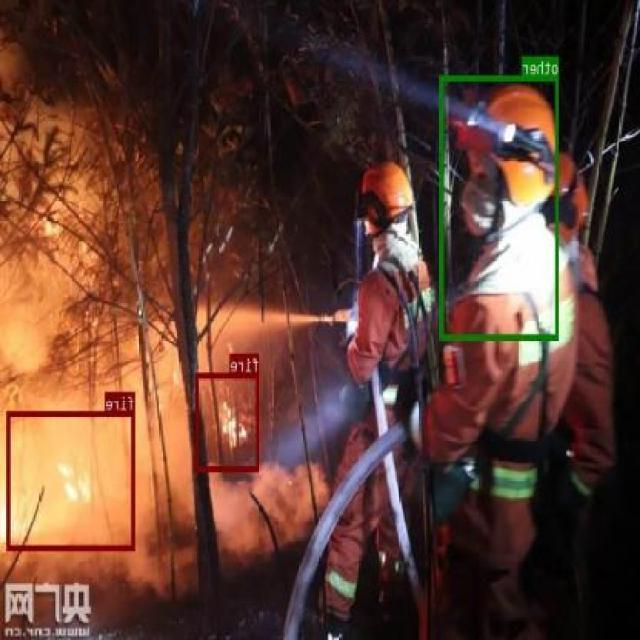Fire: (7, 410, 136, 550), (196, 372, 261, 470)
